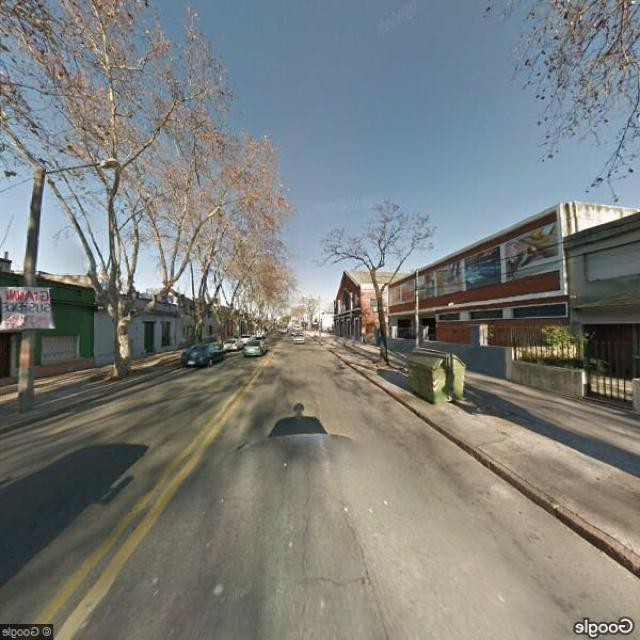garbage container: (398, 340, 475, 413)
